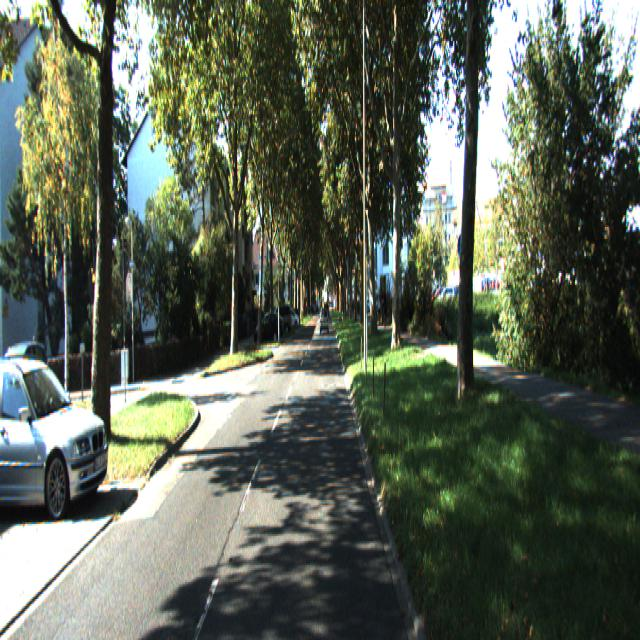Car: (0, 348, 116, 513), (256, 308, 282, 342)
